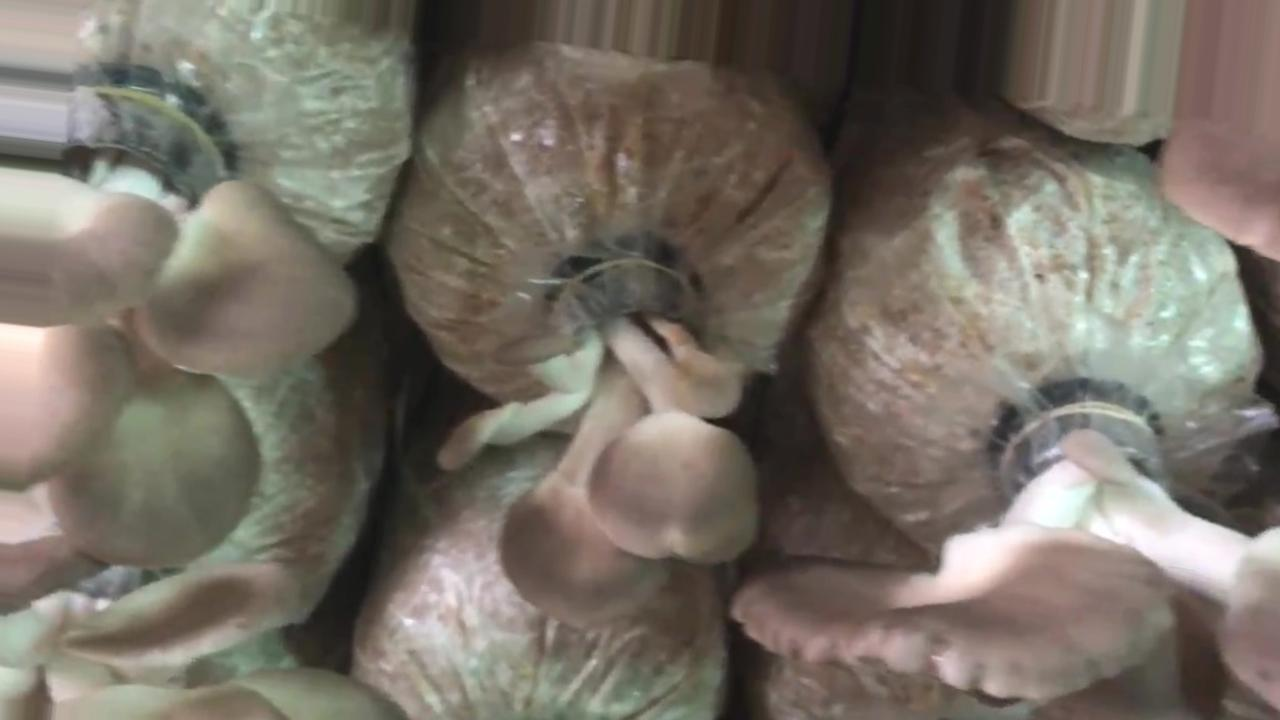nam: (741, 385, 1280, 706), (1, 88, 359, 563), (436, 243, 757, 639)
